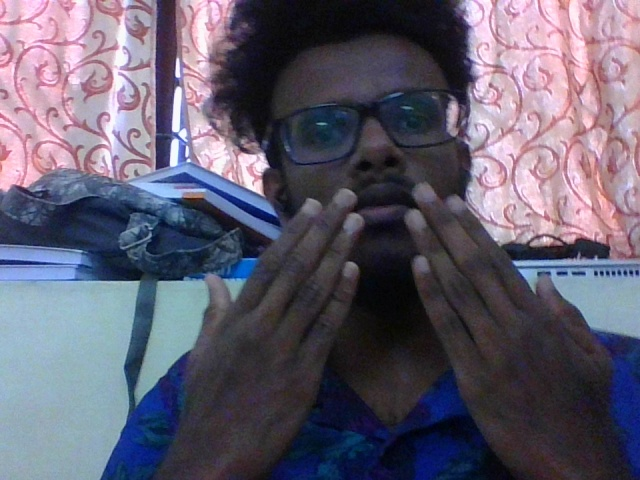thank: (173, 178, 626, 473)
